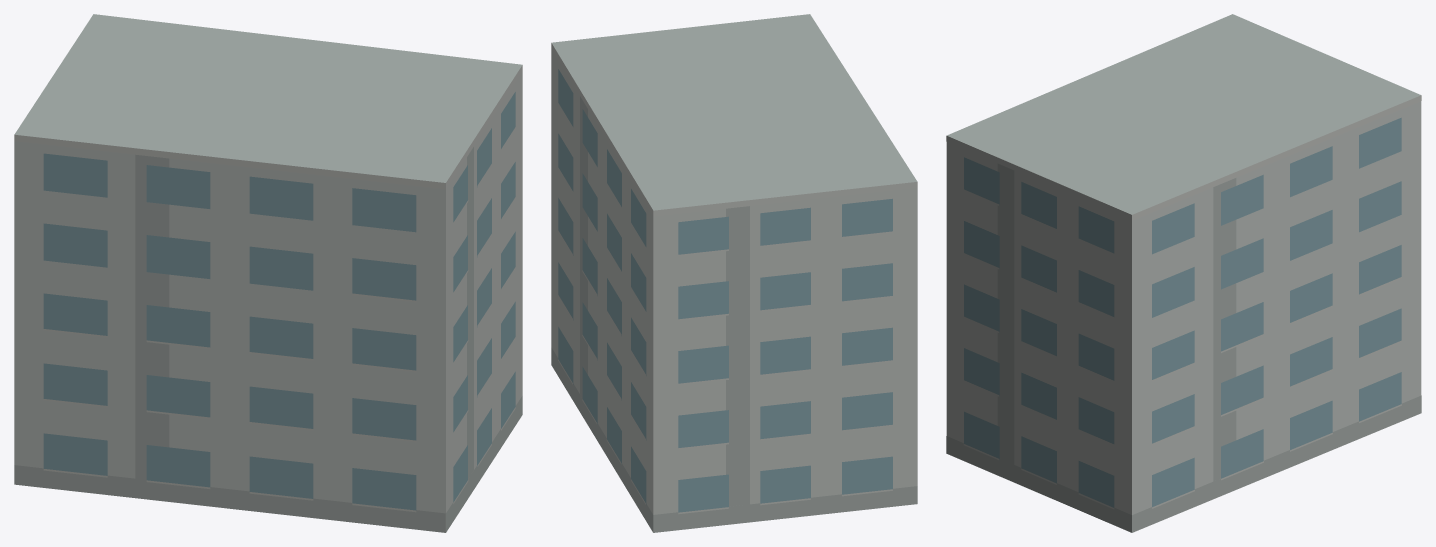
The model's file is survey-upis-32884472.glb.
The picture shows the model from 3 angles, left to right: view 1: azimuth 30°, elevation 25°; view 2: azimuth 150°, elevation 25°; view 3: azimuth 270°, elevation 25°; orthographic projection. The views are drawn at different scales.
Parts seen in each view (by area): view 1: survey-upis-32884472.tmp; view 2: survey-upis-32884472.tmp; view 3: survey-upis-32884472.tmp.
Part boxes in pixels (x1,y1,x2,y2): survey-upis-32884472.tmp: (14, 14, 522, 532); survey-upis-32884472.tmp: (551, 14, 917, 532); survey-upis-32884472.tmp: (946, 14, 1421, 532).
Size of the model in its own units: 17.76 by 13.1 by 17.74.
